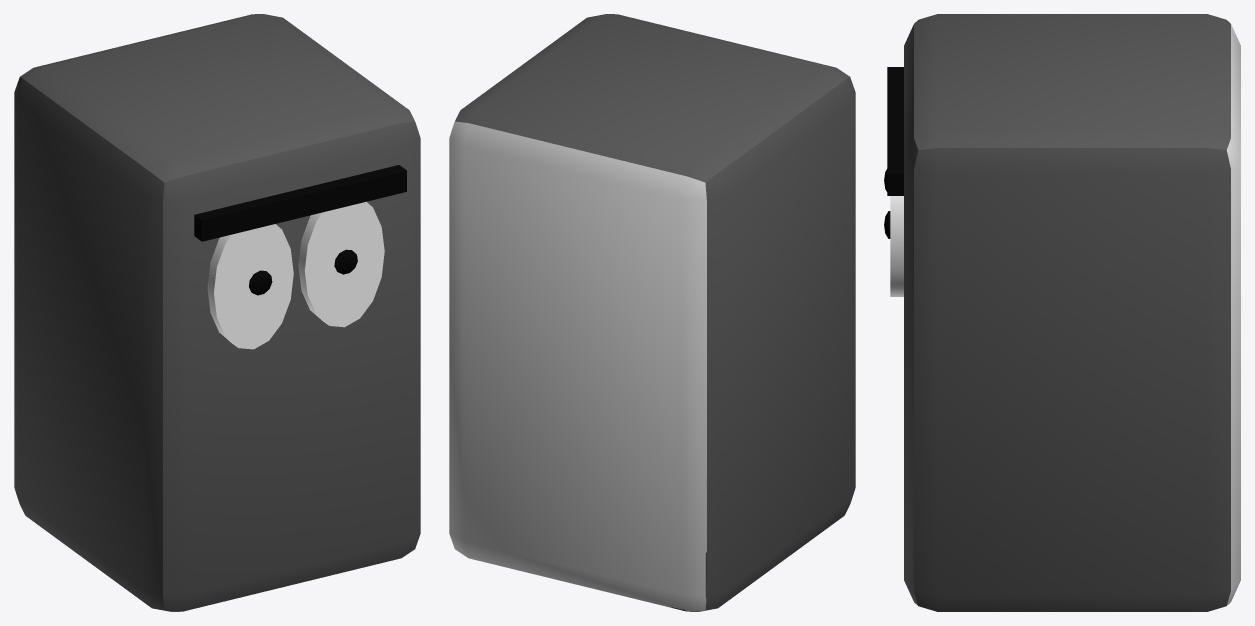
File: pressalot.glb
3 views of the same model, side by side, from view 1: azimuth 30°, elevation 25°; view 2: azimuth 150°, elevation 25°; view 3: azimuth 270°, elevation 25° (orthographic). The views are drawn at different scales.
Visible parts, largest first — view 1: body, eyes; view 2: body; view 3: body.
Part boxes in pixels (x1,y1,x2,y2): body: [14, 14, 420, 611]; eyes: [249, 249, 357, 295]; body: [449, 14, 855, 611]; body: [887, 14, 1240, 611].
Size of the model in its own units: 4.33 by 6.83 by 4.59.
1 material, 1 textured.
